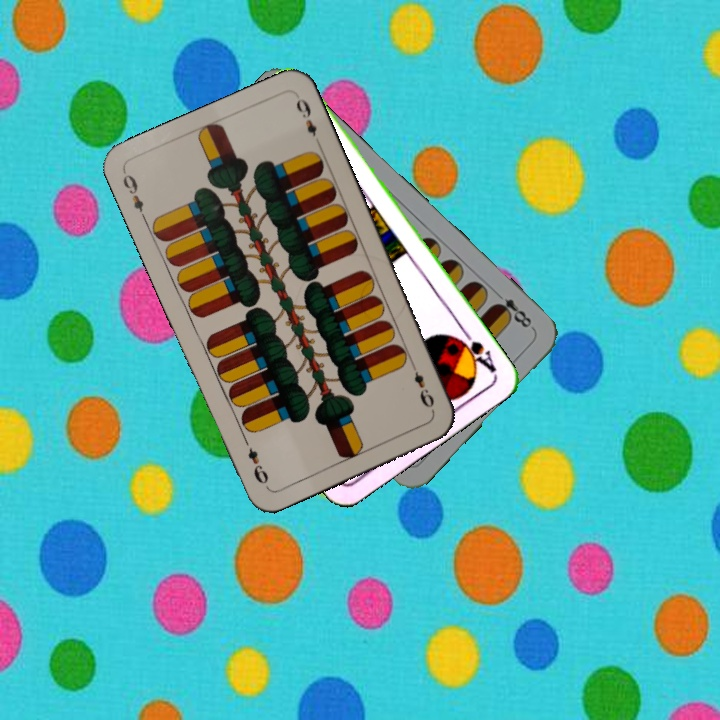E8: (489, 287, 537, 333)
E9: (118, 168, 150, 224), (409, 358, 437, 411)
SA: (451, 324, 500, 376)
